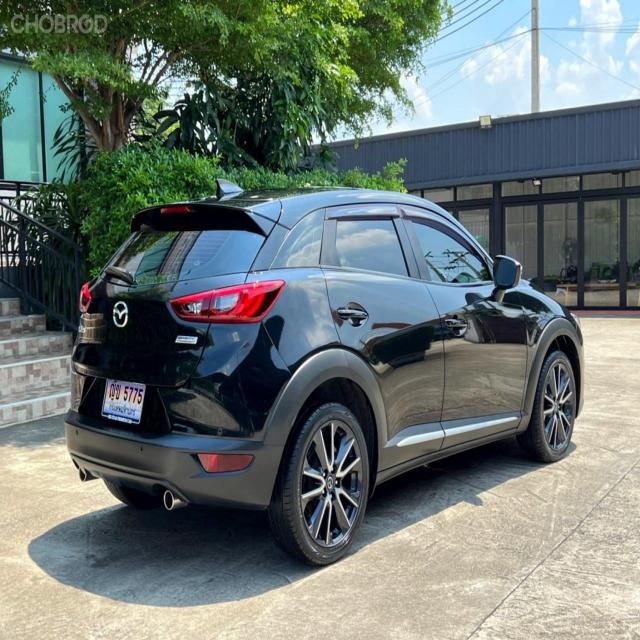license_plate: (102, 374, 147, 426)
